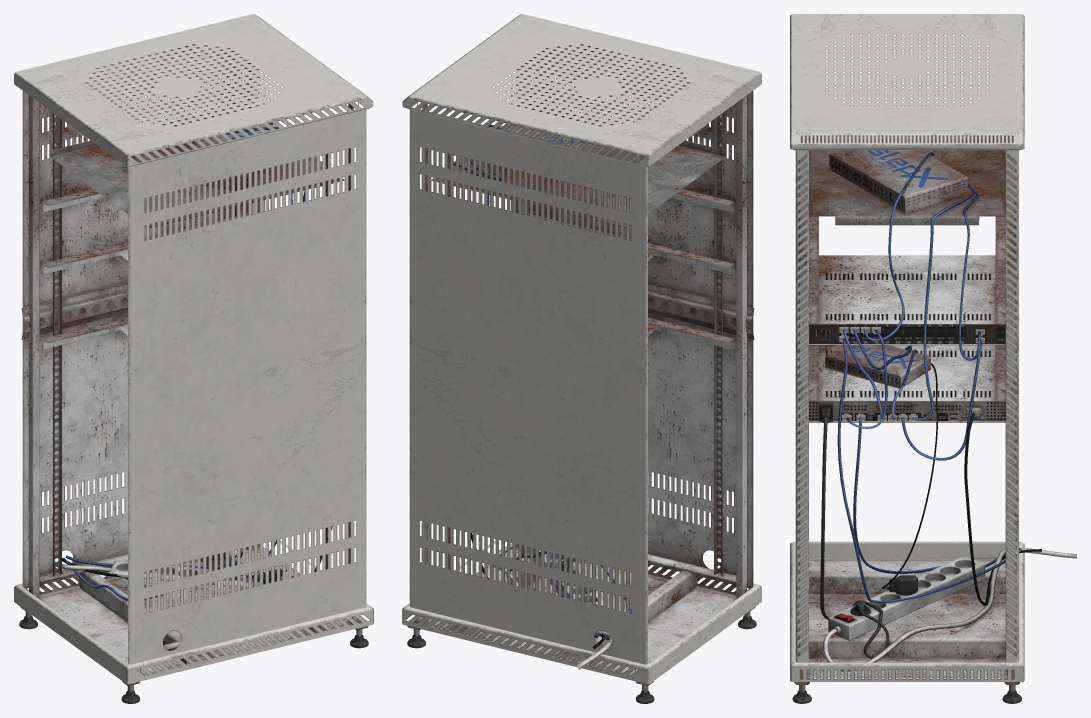
Rendered from case.glb.
3 views of the same model, side by side, from view 1: azimuth 30°, elevation 25°; view 2: azimuth 150°, elevation 25°; view 3: azimuth 270°, elevation 25° (orthographic). The views are drawn at different scales.
Bounding box in the file's own units: 2 × 4.26 × 1.95.
Materials: 1 (1 with a texture image).
